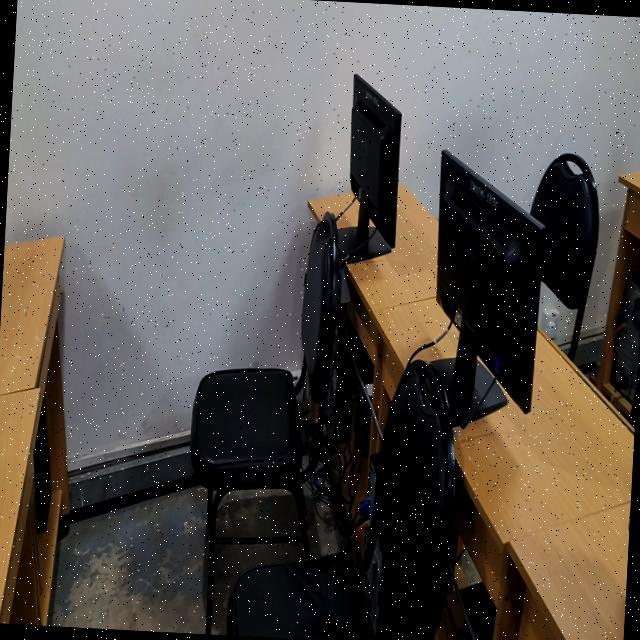Chair: (189, 211, 356, 635), (226, 359, 456, 640), (531, 153, 598, 359)
Cpu: (610, 279, 640, 400), (33, 402, 49, 532)
Monitor: (433, 149, 544, 427), (338, 73, 400, 262)
